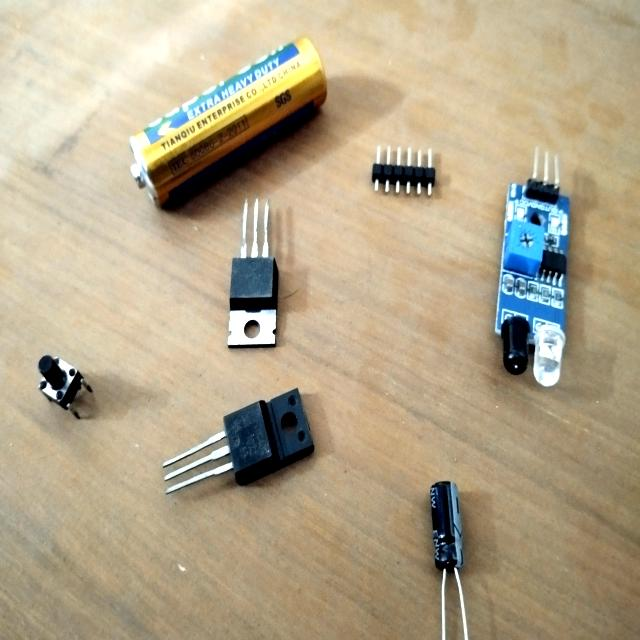capacitor: (431, 481, 468, 640)
